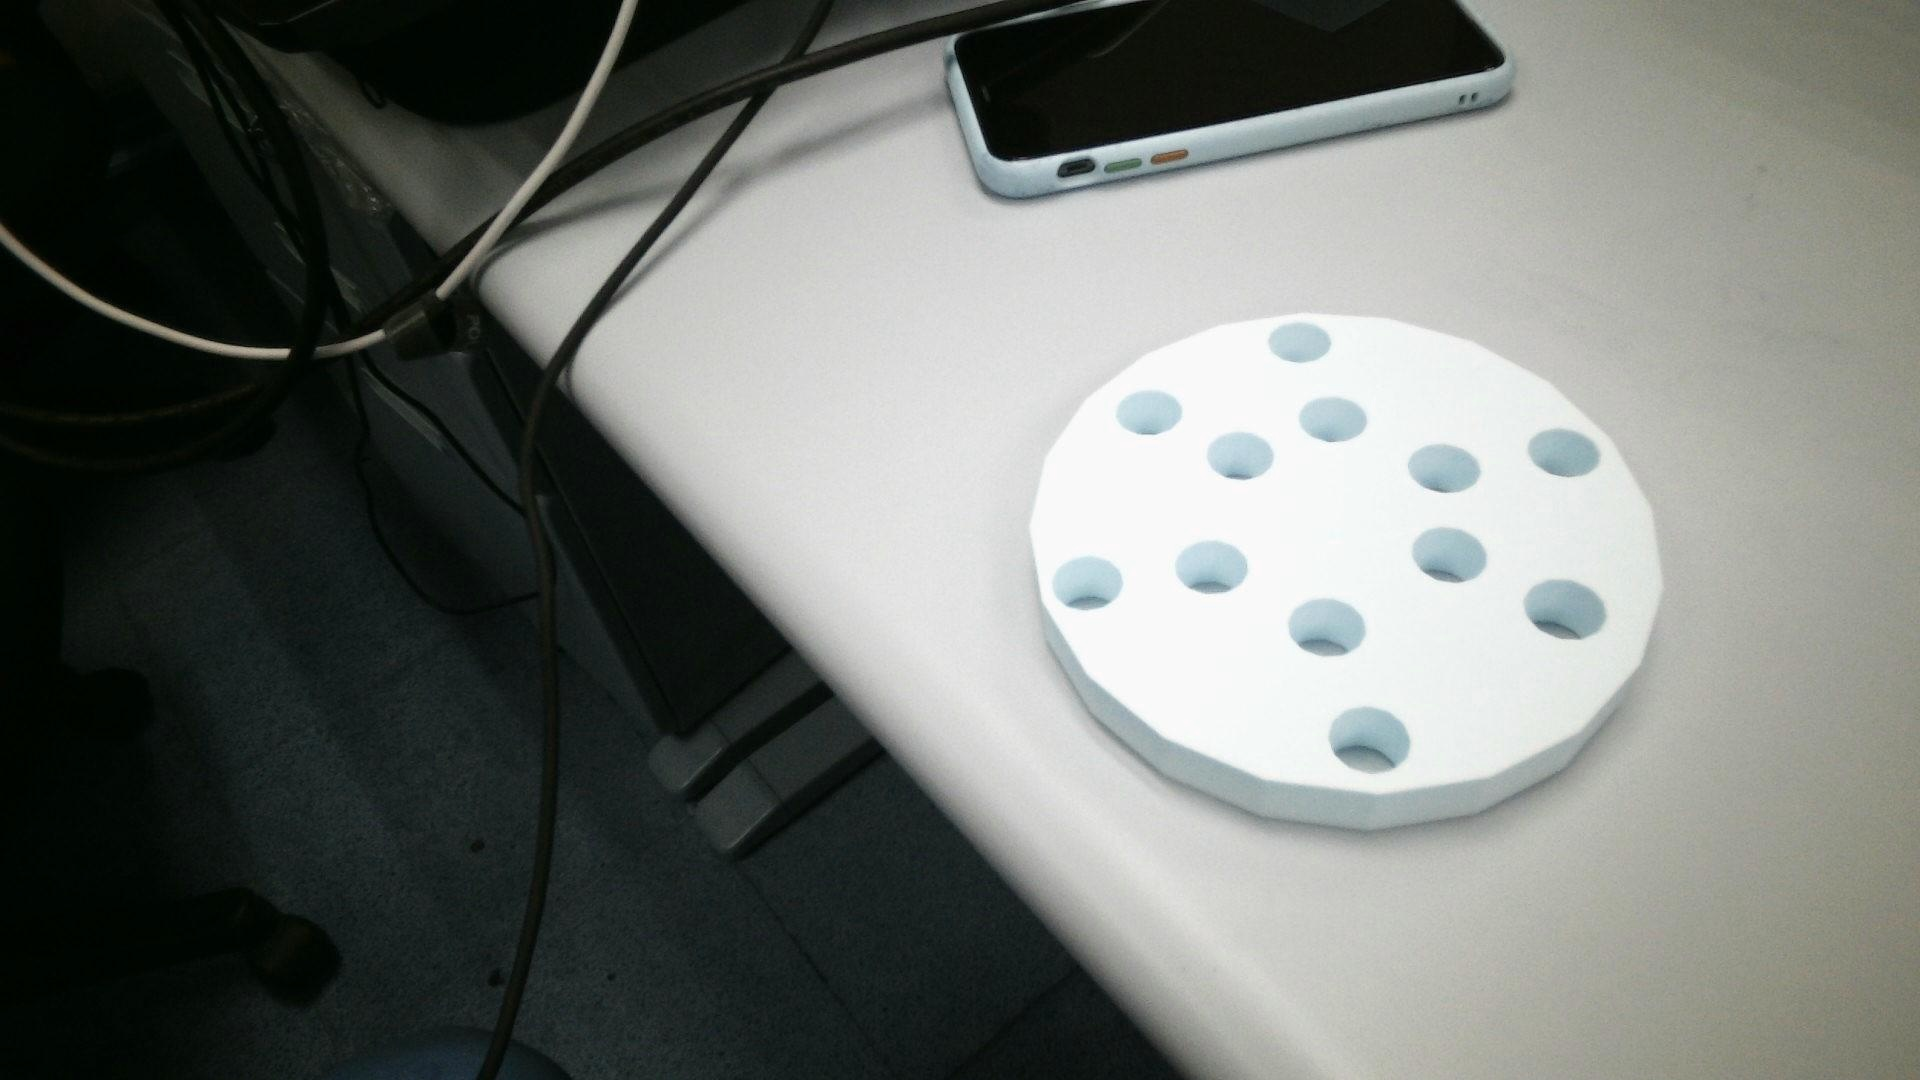hole: (1524, 575, 1607, 645), (1398, 434, 1487, 498), (1327, 708, 1412, 774), (1408, 522, 1491, 584), (1523, 422, 1607, 481), (1287, 596, 1364, 659), (1178, 537, 1245, 600), (1209, 431, 1269, 489), (1299, 394, 1365, 444), (1267, 320, 1335, 365), (1054, 559, 1110, 611), (1120, 392, 1180, 436)
obj: (1026, 290, 1673, 855)
